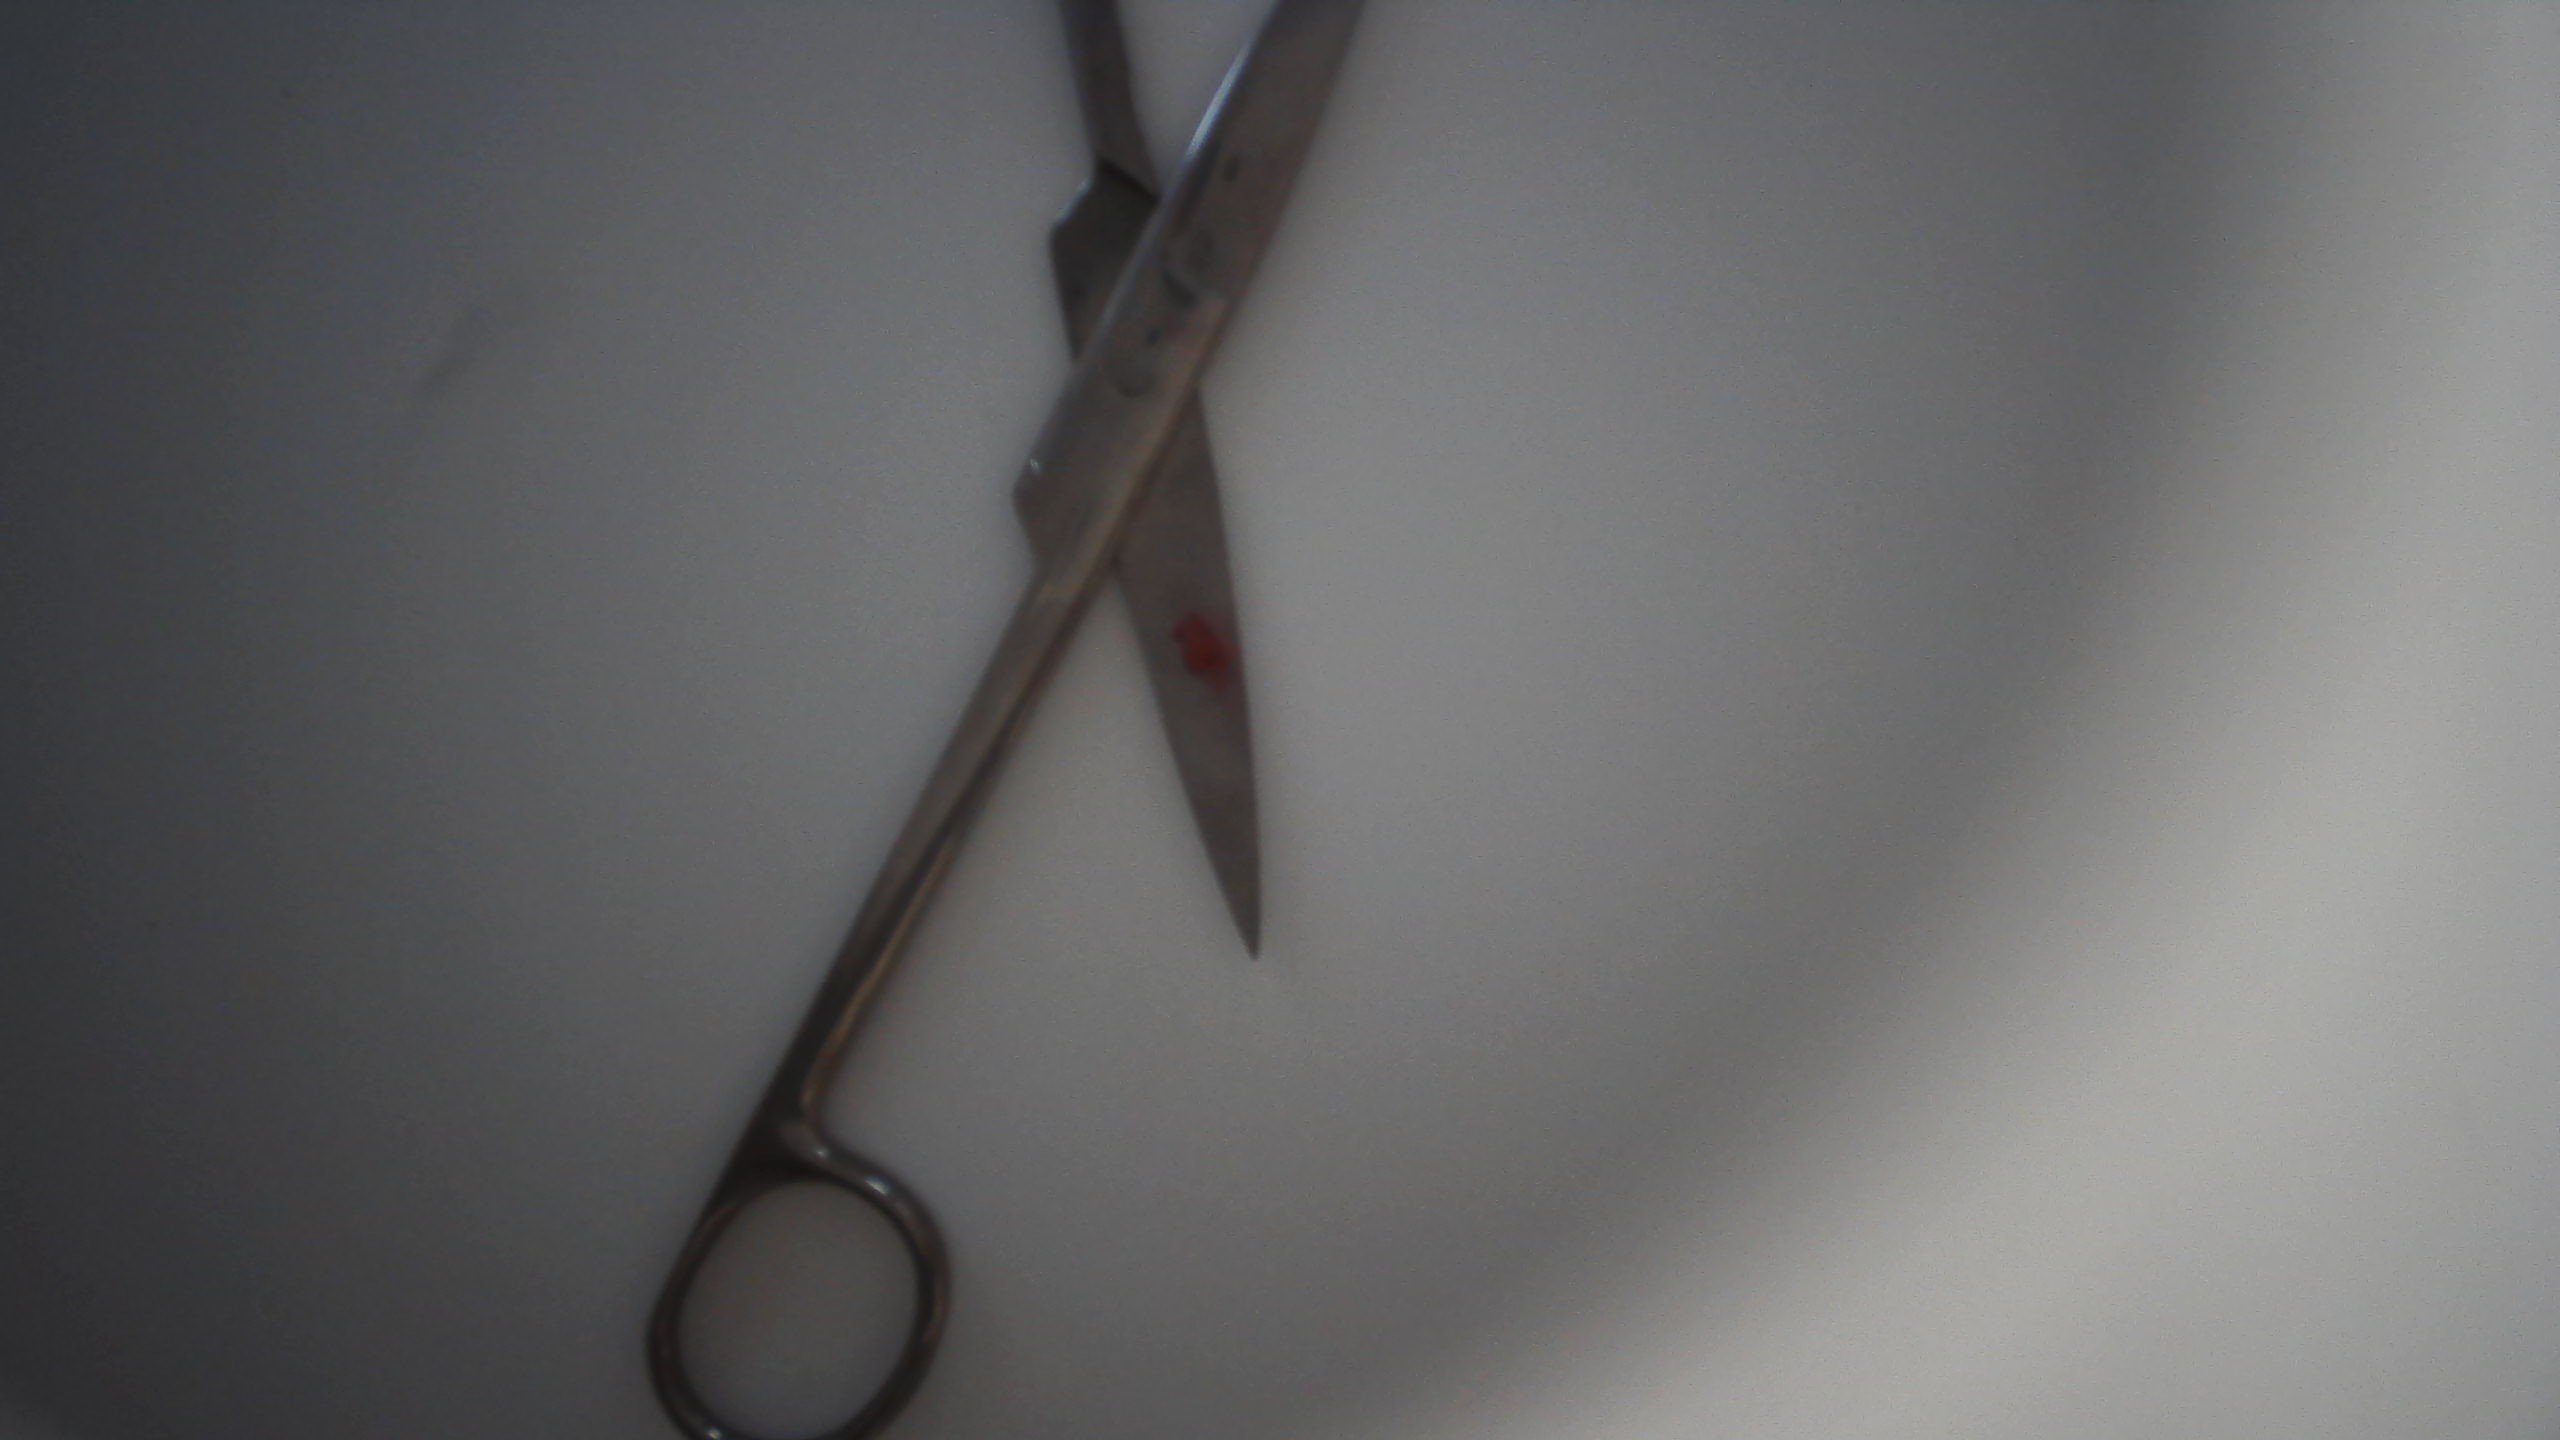Stain: (1159, 605, 1245, 703)
